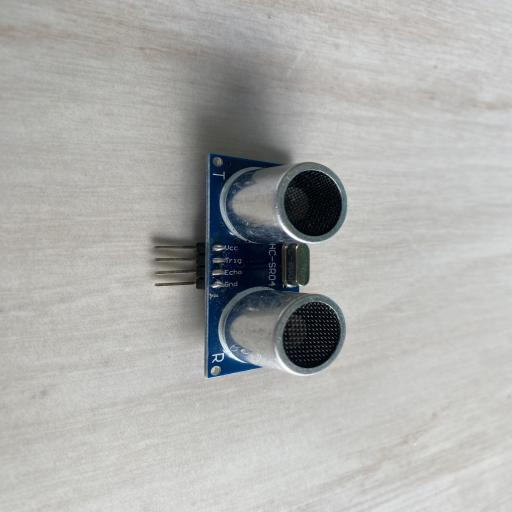Ultrasonic Sensor: (154, 153, 346, 379)
